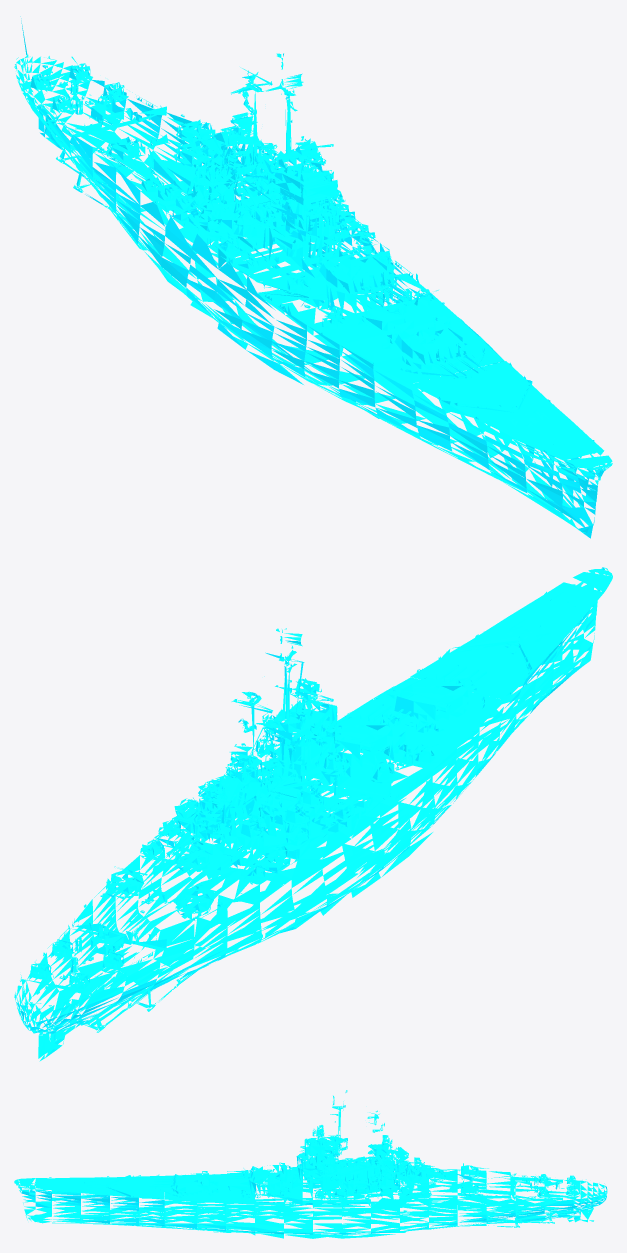
File: PFSB909.glb
3 views of the same model, one above another, from view 1: azimuth 30°, elevation 25°; view 2: azimuth 150°, elevation 25°; view 3: azimuth 270°, elevation 25° (orthographic). The views are drawn at different scales.
Parts seen in each view (by area): view 1: hull_mid, hull_bow, hull_stern, main_battery, secondary_battery, aa_mount, hull_body; view 2: hull_mid, hull_bow, hull_stern, secondary_battery, main_battery, aa_mount, hull_body; view 3: hull_mid, hull_bow, hull_stern, main_battery, secondary_battery, aa_mount, hull_body.
Part boxes in pixels (box(x1,y1,x2,y2)): hull_mid: box(84, 53, 512, 445); hull_bow: box(410, 361, 612, 538); hull_stern: box(14, 16, 193, 212); main_battery: box(311, 245, 487, 377); secondary_battery: box(97, 117, 375, 268); aa_mount: box(30, 56, 438, 330); hull_body: box(98, 95, 345, 222); hull_mid: box(84, 628, 511, 989); hull_bow: box(410, 567, 612, 760); hull_stern: box(14, 899, 194, 1061); secondary_battery: box(106, 766, 373, 916); main_battery: box(333, 664, 486, 759); aa_mount: box(30, 723, 438, 989); hull_body: box(97, 678, 344, 939); hull_mid: box(152, 1090, 497, 1238); hull_bow: box(14, 1175, 164, 1227); hull_stern: box(486, 1171, 607, 1227); main_battery: box(149, 1162, 287, 1192); secondary_battery: box(315, 1156, 489, 1198); aa_mount: box(241, 1155, 579, 1201); hull_body: box(312, 1125, 530, 1183).
Size of the model in its own units: 2.37 by 4.07 by 16.67.
